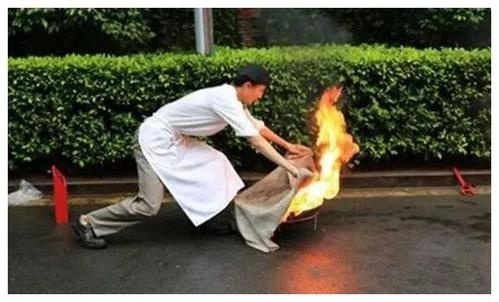fire: (291, 79, 359, 216)
